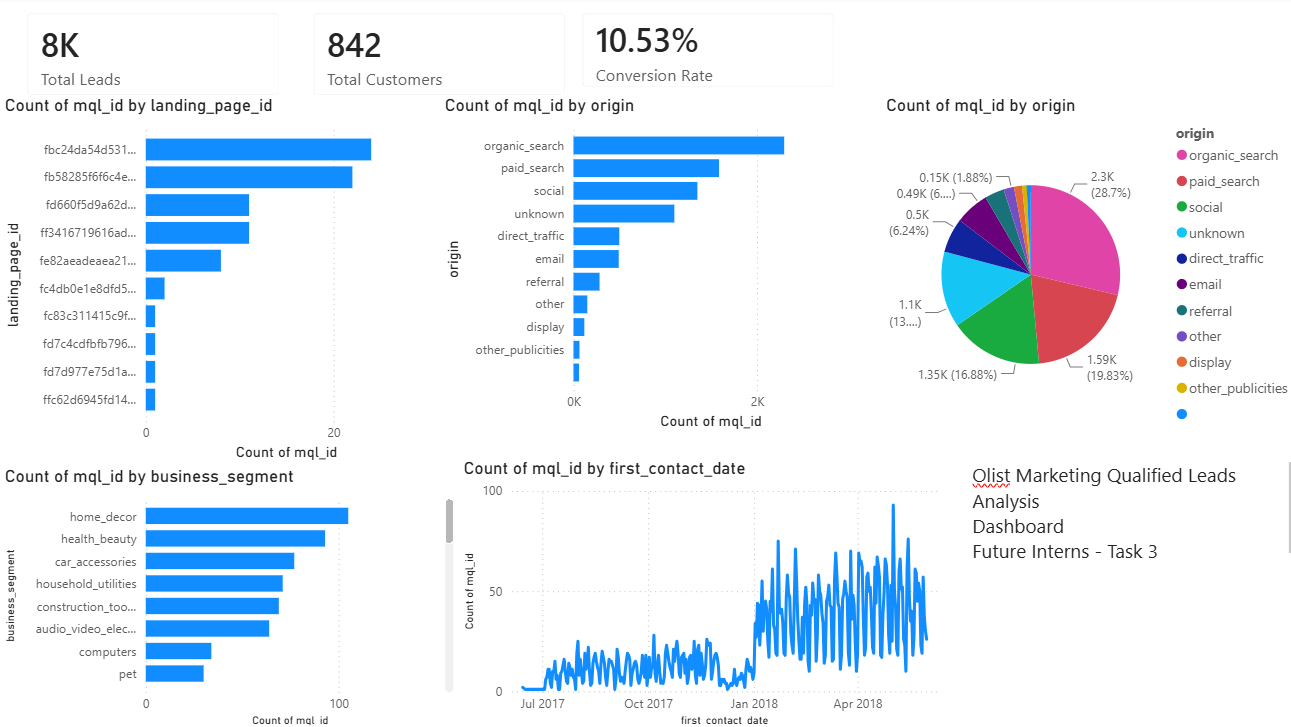

Layout of this report page (visuals, bound fields, positions):
{"tool":"powerbi","page":{"name":"Page 1","canvas":[1280,720],"ordinal":0},"visuals":[{"type":"cardVisual","fields":{"Data":["olist_closed_deals_dataset.Total Leads"]},"box":[9.8,0,280,114.9],"z":0},{"type":"cardVisual","fields":{"Data":["olist_closed_deals_dataset.Total Customers"]},"box":[289.8,0,280,114.9],"z":1000},{"type":"cardVisual","fields":{"Data":["olist_closed_deals_dataset.Conversion Rate"]},"box":[552.7,0,280,106.4],"z":2000},{"type":"clusteredBarChart","fields":{"Category":["olist_marketing_qualified_leads_dataset.origin"],"Y":["Count(olist_marketing_qualified_leads_dataset.mql_id)"]},"box":[430.4,96.6,412.1,332.6],"z":3000},{"type":"clusteredBarChart","fields":{"Category":["olist_marketing_qualified_leads_dataset.landing_page_id"],"Y":["Count(olist_marketing_qualified_leads_dataset.mql_id)"]},"box":[0,96.6,430.4,363.2],"z":4000},{"type":"clusteredBarChart","fields":{"Category":["olist_closed_deals_dataset.business_segment"],"Y":["Count(olist_closed_deals_dataset.mql_id)"]},"box":[0,459.8,448.8,260.5],"z":5000},{"type":"lineChart","fields":{"Y":["Count(olist_marketing_qualified_leads_dataset.mql_id)"],"Category":["olist_marketing_qualified_leads_dataset.first_contact_date"]},"box":[448.8,451.2,487.9,269],"z":6000},{"type":"pieChart","fields":{"Category":["olist_marketing_qualified_leads_dataset.origin"],"Y":["Count(olist_marketing_qualified_leads_dataset.mql_id)"]},"box":[862,97,412,333],"z":6001},{"type":"textbox","box":[946.5,451.2,327.7,114.9],"z":6002}]}

Visuals, with their boxes in screenshot pixels (x1, y1, x2, y2), scaled from the page's 1280x720 canvas onto the 1291x727 screenshot:
cardVisual - olist_closed_deals_dataset.Total Leads: bbox(10, 0, 292, 116)
cardVisual - olist_closed_deals_dataset.Total Customers: bbox(292, 0, 575, 116)
cardVisual - olist_closed_deals_dataset.Conversion Rate: bbox(557, 0, 840, 107)
clusteredBarChart - olist_marketing_qualified_leads_dataset.origin x Count(olist_marketing_qualified_leads_dataset.mql_id): bbox(434, 98, 850, 433)
clusteredBarChart - olist_marketing_qualified_leads_dataset.landing_page_id x Count(olist_marketing_qualified_leads_dataset.mql_id): bbox(0, 98, 434, 464)
clusteredBarChart - olist_closed_deals_dataset.business_segment x Count(olist_closed_deals_dataset.mql_id): bbox(0, 464, 453, 726)
lineChart - Count(olist_marketing_qualified_leads_dataset.mql_id) x olist_marketing_qualified_leads_dataset.first_contact_date: bbox(453, 456, 945, 726)
pieChart - olist_marketing_qualified_leads_dataset.origin x Count(olist_marketing_qualified_leads_dataset.mql_id): bbox(869, 98, 1285, 434)
textbox: bbox(955, 456, 1285, 572)
